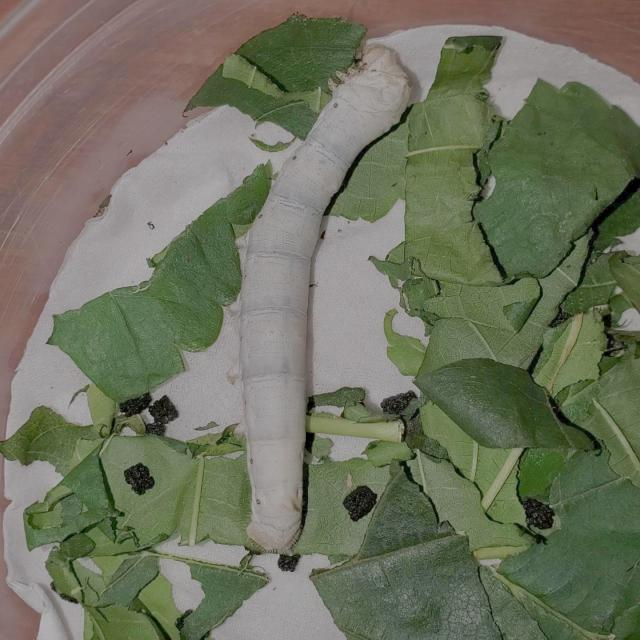Healthy: (216, 34, 420, 559)
